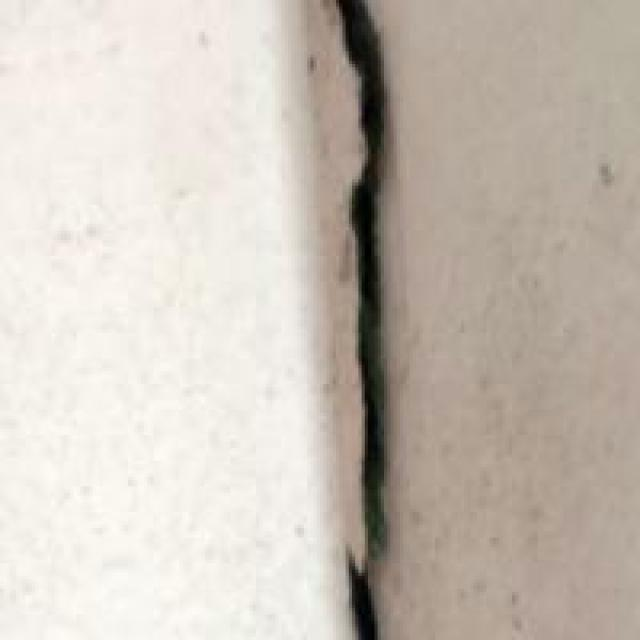crack: (266, 0, 454, 640)
